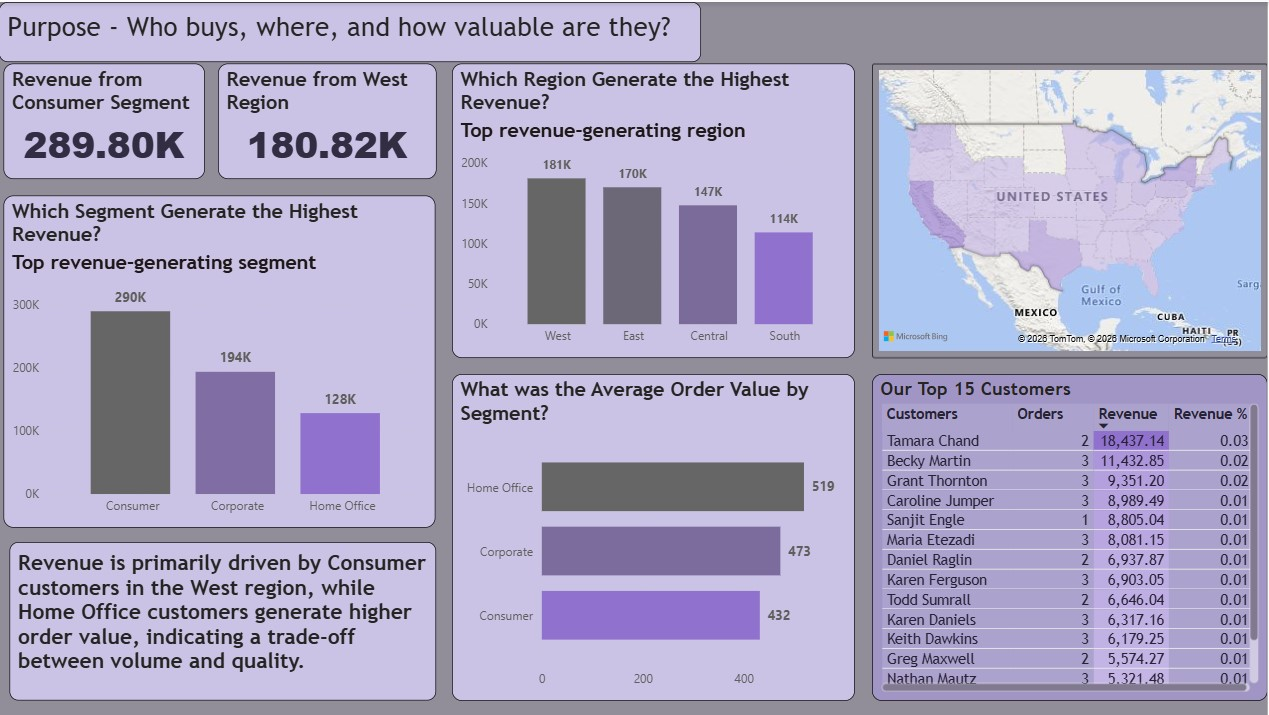

This screenshot's page, from the dashboard's own definition file:
{"tool":"powerbi","page":{"name":"Customers And Market Analysis","canvas":[1280,720],"ordinal":2},"visuals":[{"type":"textbox","box":[0,0,708.9,60.8],"z":0},{"type":"columnChart","title":"Which Segment Generate the Highest Revenue?","fields":{"Category":["superstore.segment"],"Y":["superstore.Revenue by Segment"]},"box":[5.2,194.6,436.1,335.4],"z":1000},{"type":"barChart","title":"What was the Average Order Value by Segment?","fields":{"Category":["superstore.segment"],"Y":["superstore.AOV by Segment"]},"box":[457,375.3,406.6,330.1],"z":2000},{"type":"columnChart","title":"Which Region Generate the Highest Revenue?","fields":{"Y":["superstore.Revenue by Region"],"Category":["superstore.region"]},"box":[457,62.6,406.6,297.1],"z":3000},{"type":"filledMap","fields":{"Category":["superstore.state"],"Y":["superstore.Revenue by State"]},"box":[881,62.6,399.6,297.1],"z":4000},{"type":"tableEx","title":"Our Top 15 Customers","fields":{"Values":["superstore.customer_name","superstore.Orders by Segment","superstore.Customer Revenue","superstore.Customer Revenue %"]},"box":[881,375.3,399.6,330.1],"z":5000},{"type":"card","title":"Revenue from Consumer Segment","fields":{"Values":["superstore.Revenue by Segment max per segment"]},"box":[5.2,62.6,203.3,116.4],"z":6000},{"type":"card","title":"Revenue from West Region","fields":{"Values":["superstore.Revenue by Region max per region"]},"box":[220.7,62.6,220.7,116.4],"z":7000},{"type":"textbox","box":[10.4,545.6,430.9,159.9],"z":8000}]}

Visuals, with their boxes in screenshot pixels (x1, y1, x2, y2), scaled from the page's 1280x720 canvas onto the 1269x715 screenshot:
textbox: (x1=0, y1=0, x2=703, y2=60)
"Which Segment Generate the Highest Revenue?" columnChart: (x1=5, y1=193, x2=438, y2=526)
"What was the Average Order Value by Segment?" barChart: (x1=453, y1=373, x2=856, y2=701)
"Which Region Generate the Highest Revenue?" columnChart: (x1=453, y1=62, x2=856, y2=357)
filledMap - superstore.state x superstore.Revenue by State: (x1=873, y1=62, x2=1268, y2=357)
"Our Top 15 Customers" tableEx: (x1=873, y1=373, x2=1268, y2=701)
"Revenue from Consumer Segment" card: (x1=5, y1=62, x2=207, y2=178)
"Revenue from West Region" card: (x1=219, y1=62, x2=438, y2=178)
textbox: (x1=10, y1=542, x2=438, y2=701)
